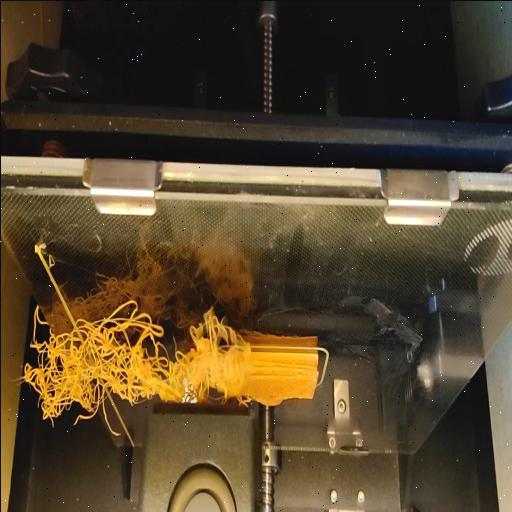spaghetti: (14, 292, 154, 439)
